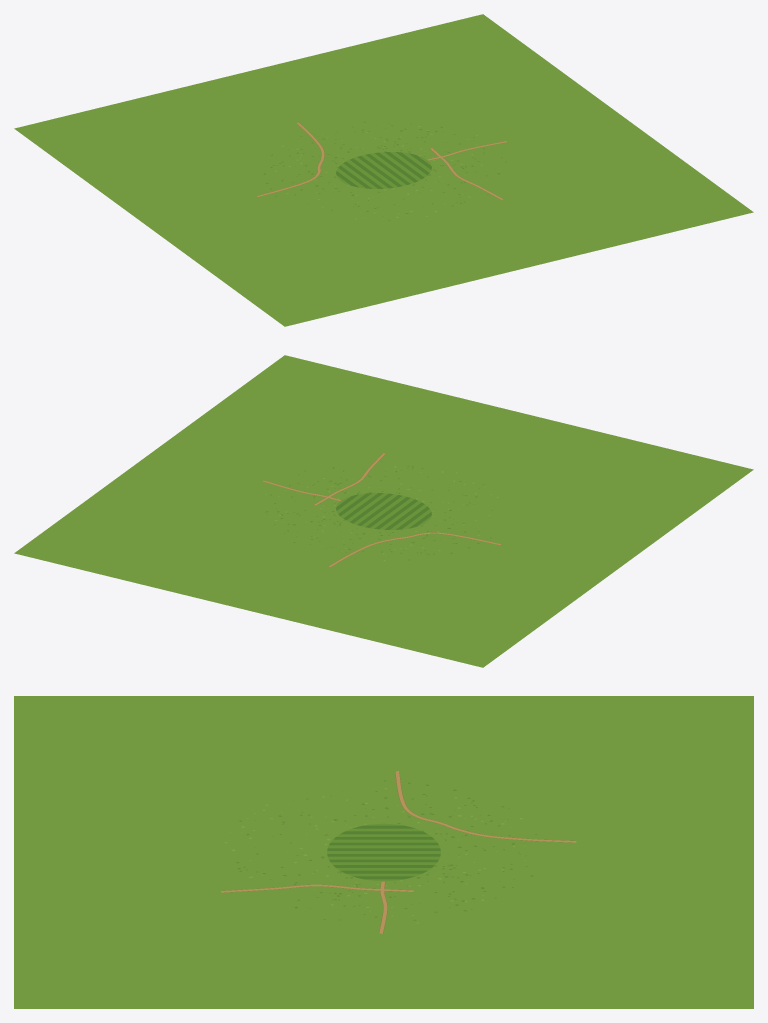
Rendered from park_ground.glb.
3 renders of one model, top to bottom at view 1: azimuth 30°, elevation 25°; view 2: azimuth 150°, elevation 25°; view 3: azimuth 270°, elevation 25°, orthographic. The views are drawn at different scales.
Parts seen in each view (by area): view 1: Grass_Outer, Turf_Oval, Paths, Grass_Patches; view 2: Grass_Outer, Turf_Oval, Paths, Grass_Patches; view 3: Grass_Outer, Turf_Oval, Paths, Grass_Patches.
Boxes of the visible parts, x1,y1,x2,y2 form: Grass_Outer: [14, 14, 753, 326]; Turf_Oval: [336, 152, 431, 188]; Paths: [256, 122, 507, 199]; Grass_Patches: [263, 121, 506, 220]; Grass_Outer: [14, 355, 753, 667]; Turf_Oval: [336, 493, 431, 529]; Paths: [262, 453, 501, 567]; Grass_Patches: [265, 461, 498, 561]; Grass_Outer: [14, 696, 753, 1008]; Turf_Oval: [327, 823, 440, 881]; Paths: [221, 771, 576, 933]; Grass_Patches: [224, 780, 536, 923].
Size of the model in its own units: 1000 by 0.03 by 1000.
